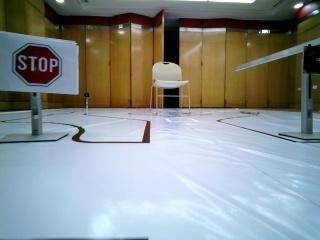stop: (0, 36, 75, 90)
